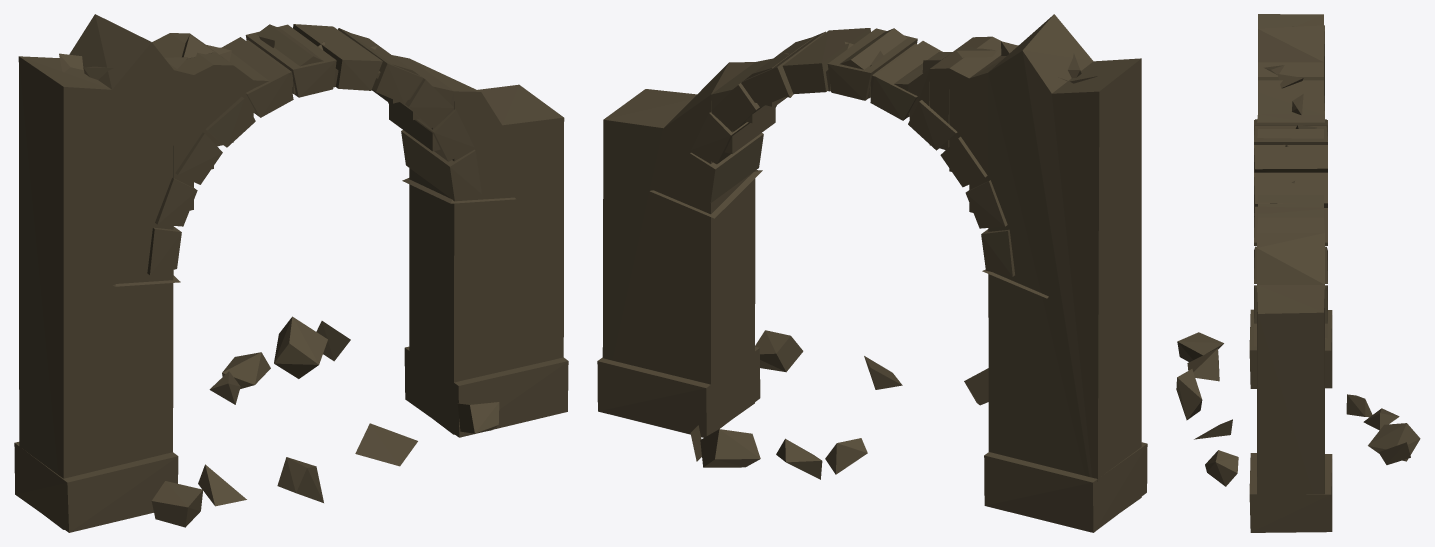
The model's file is ruin-arch-lod1.glb.
3 renders of one model, left to right at view 1: azimuth 30°, elevation 25°; view 2: azimuth 150°, elevation 25°; view 3: azimuth 270°, elevation 25°, orthographic. The views are drawn at different scales.
Size of the model in its own units: 9 by 8 by 5.02.
